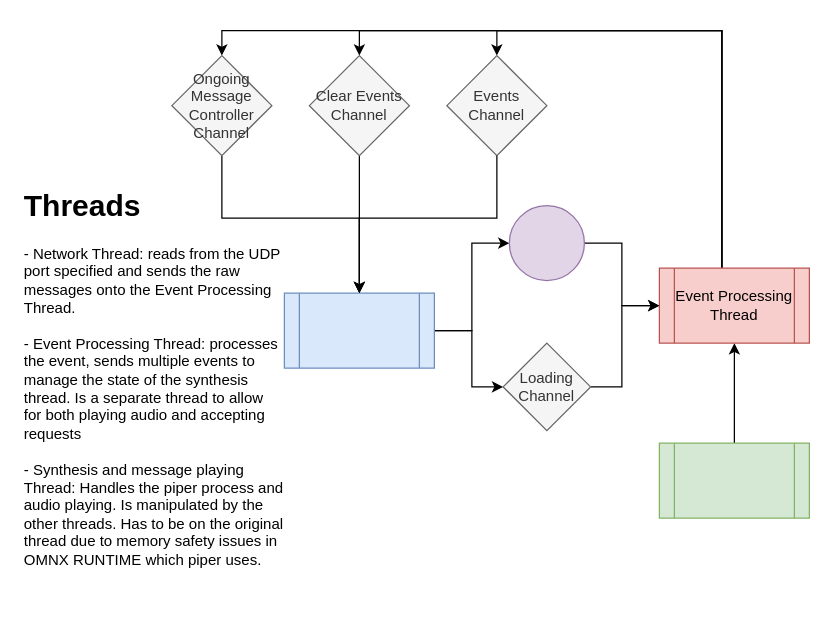
Image size: 831x644. Some labels were removed from this diagram. Each missing label, with the centre of its shape:
"is_playing atomic" belongs at (546,242).
"Network Thread" belongs at (733,480).
"Synthesis and message playing Thread" belongs at (358,330).
